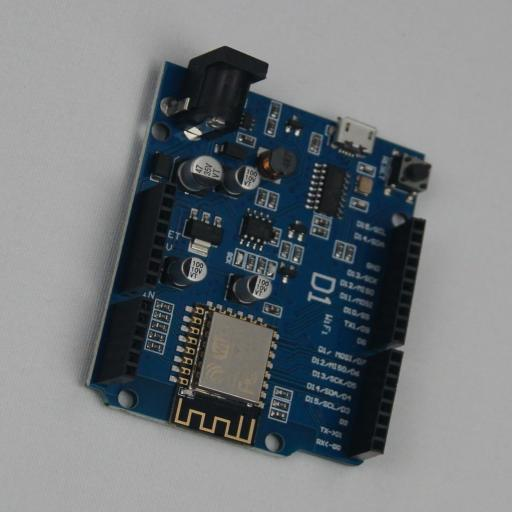Arduino Uno WiFi Shield: (82, 46, 431, 466)
